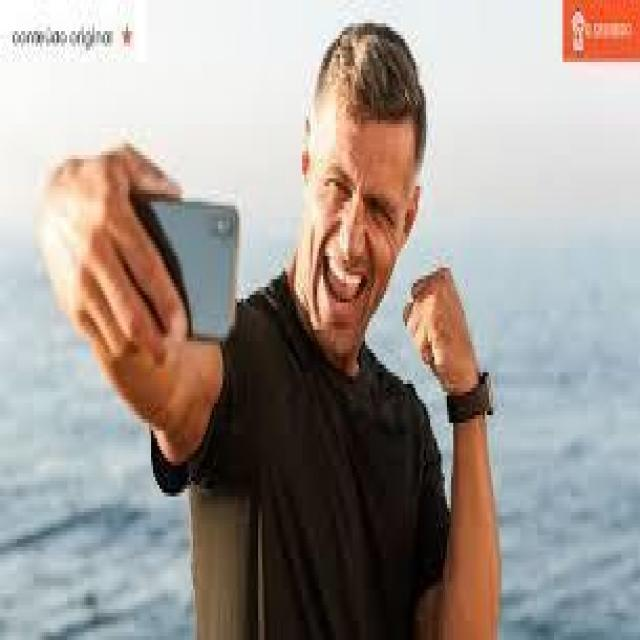person: (65, 0, 537, 636)
